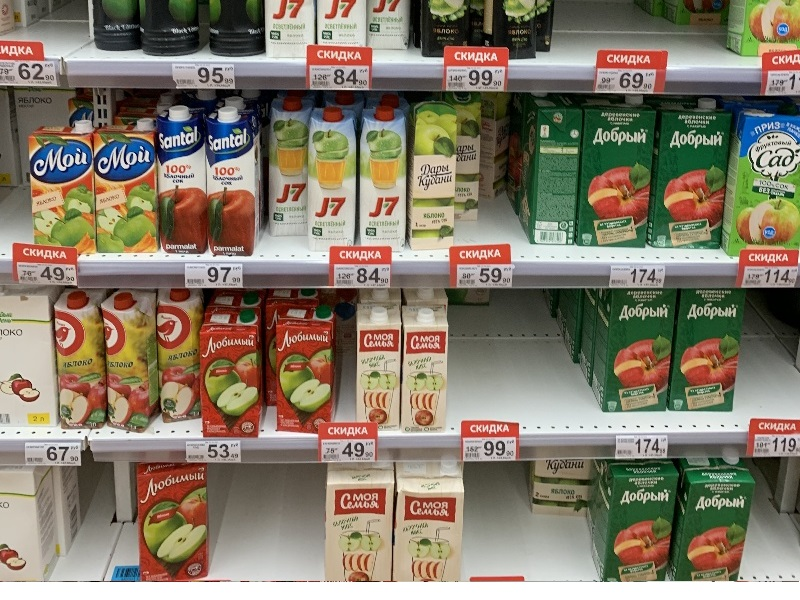juice: (645, 95, 736, 253), (571, 94, 653, 254), (89, 115, 168, 259), (148, 105, 218, 264), (27, 117, 104, 259), (192, 309, 270, 441), (296, 106, 366, 251), (49, 288, 116, 433), (268, 305, 343, 434), (146, 289, 213, 432), (98, 288, 162, 435), (202, 106, 263, 259), (357, 105, 418, 251), (261, 95, 317, 240)
